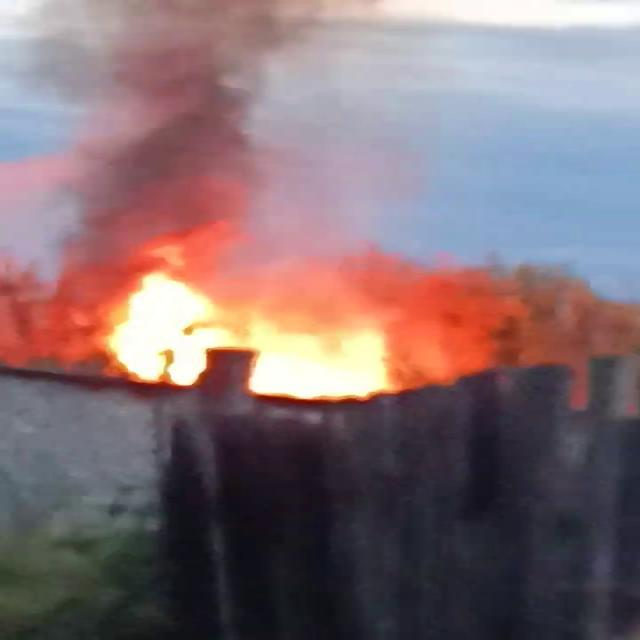Fire: (81, 260, 415, 406)
Smoke: (2, 0, 462, 282)
